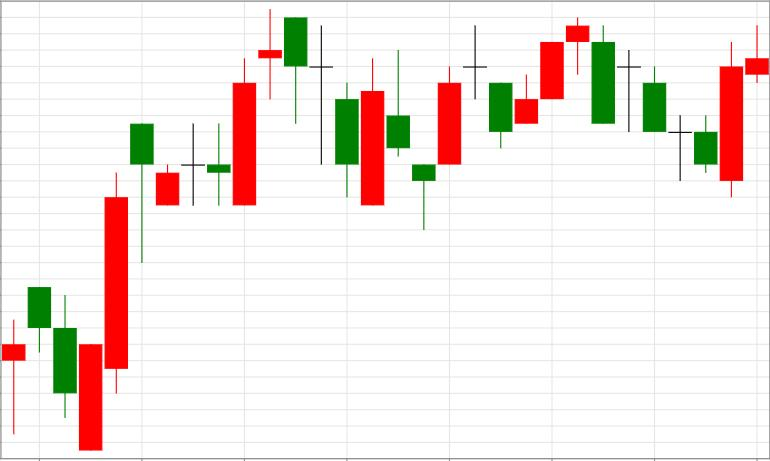bullish_engulfing_rise: (591, 24, 744, 198)
evening_star_fall: (489, 17, 615, 149)
